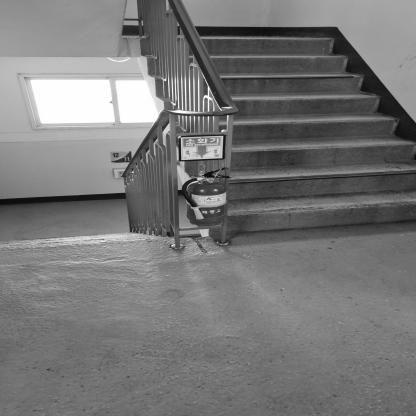FE: (184, 167, 226, 227)
